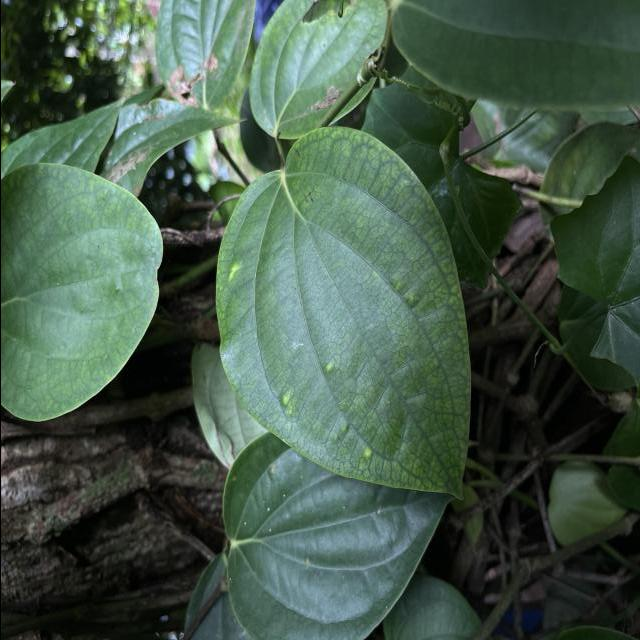Piper nigrum: (213, 124, 473, 508)
